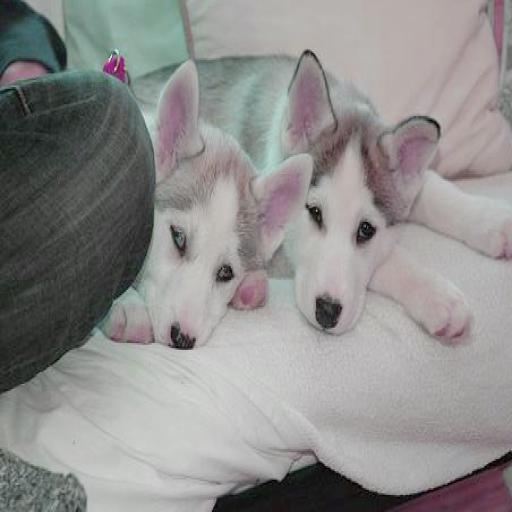dog_face: (144, 60, 311, 362), (291, 57, 437, 339)
